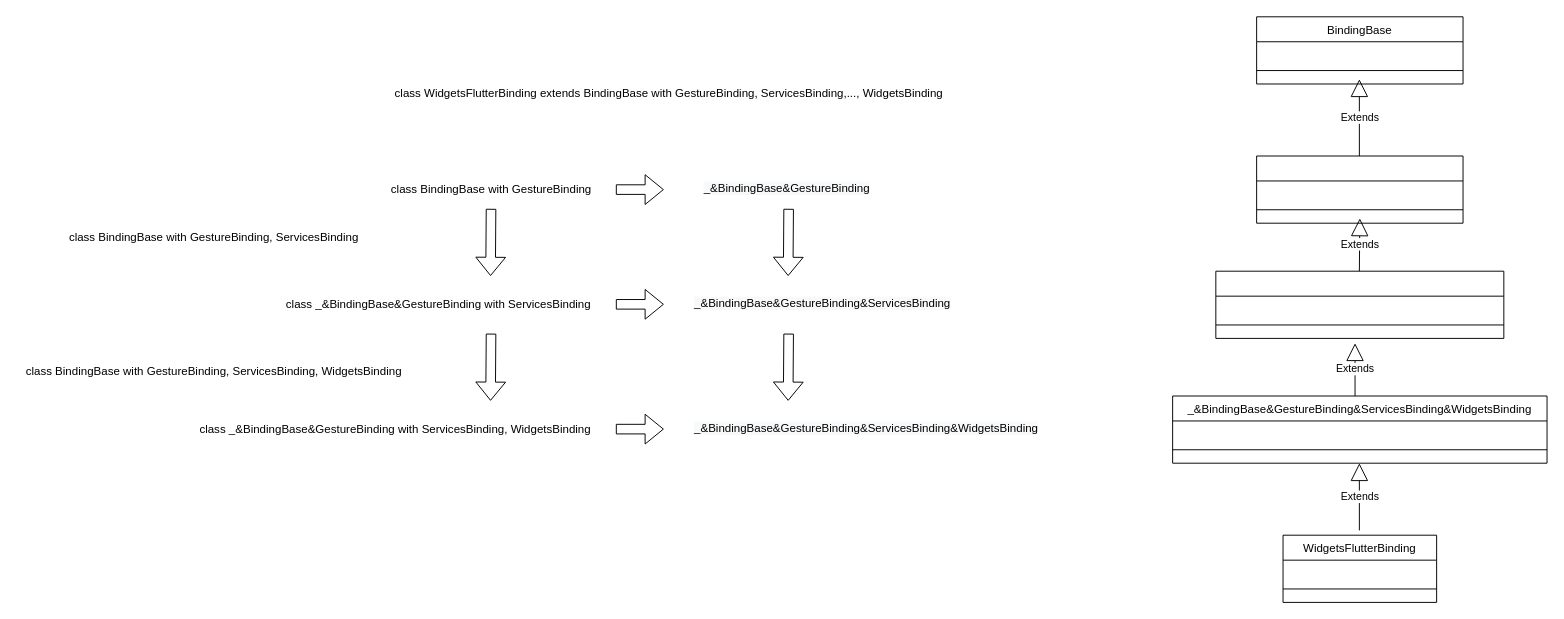
Image size: 1564x619. Some labels were removed from this diagram. Here are the shapes that lost their labels. From the top down, the centre of each, then its label:
At (1359,189): "_&BindingBase&GestureBinding".
At (1359,304): "_&BindingBase&GestureBinding&ServicesBinding".
